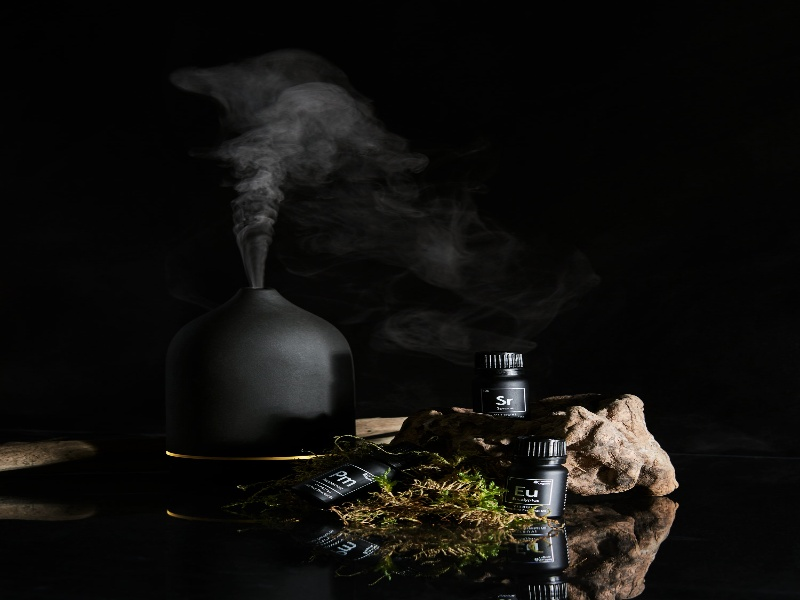smoke: (200, 63, 390, 231)
